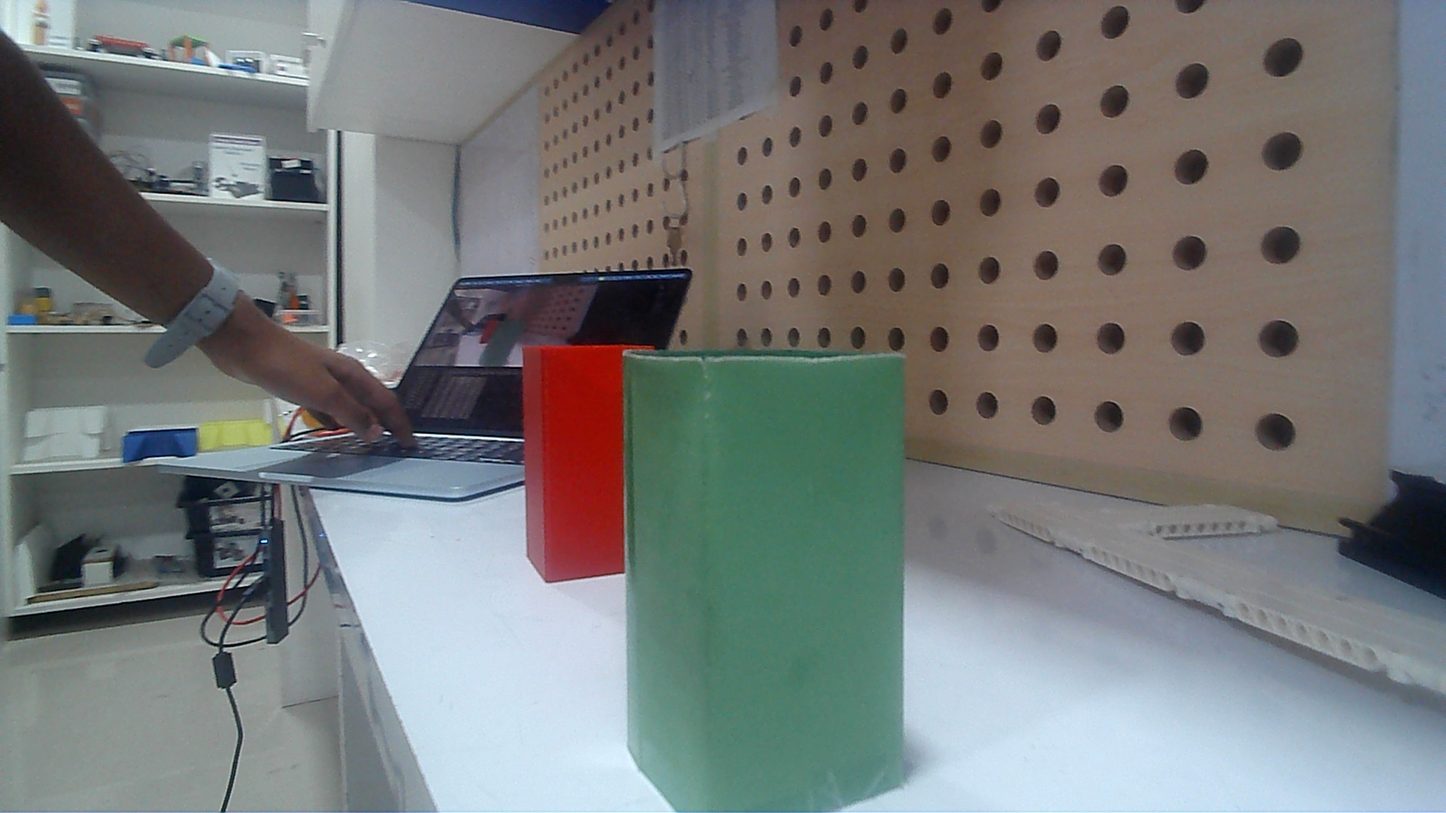green: (627, 349, 903, 807)
